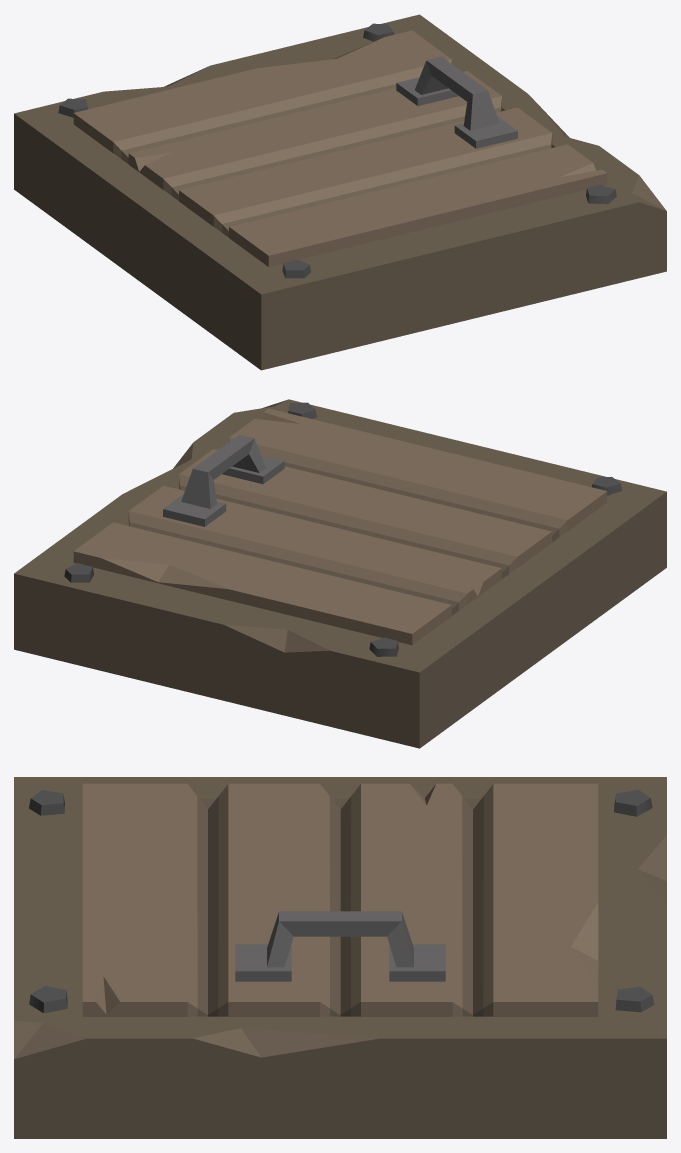
The model's file is SM_Bld_Village_Hatch_01.fbx.
3 views of the same model, one above another, from view 1: azimuth 30°, elevation 25°; view 2: azimuth 150°, elevation 25°; view 3: azimuth 270°, elevation 25° (orthographic). The views are drawn at different scales.
Parts seen in each view (by area): view 1: SM_Bld_Village_Hatch_01; view 2: SM_Bld_Village_Hatch_01; view 3: SM_Bld_Village_Hatch_01.
Boxes of the visible parts, left/top/right/bottom form: SM_Bld_Village_Hatch_01: left=14, top=14, right=666, bottom=370; SM_Bld_Village_Hatch_01: left=14, top=399, right=666, bottom=748; SM_Bld_Village_Hatch_01: left=14, top=777, right=666, bottom=1138.
Size of the model in its own units: 162 by 52.57 by 171.
